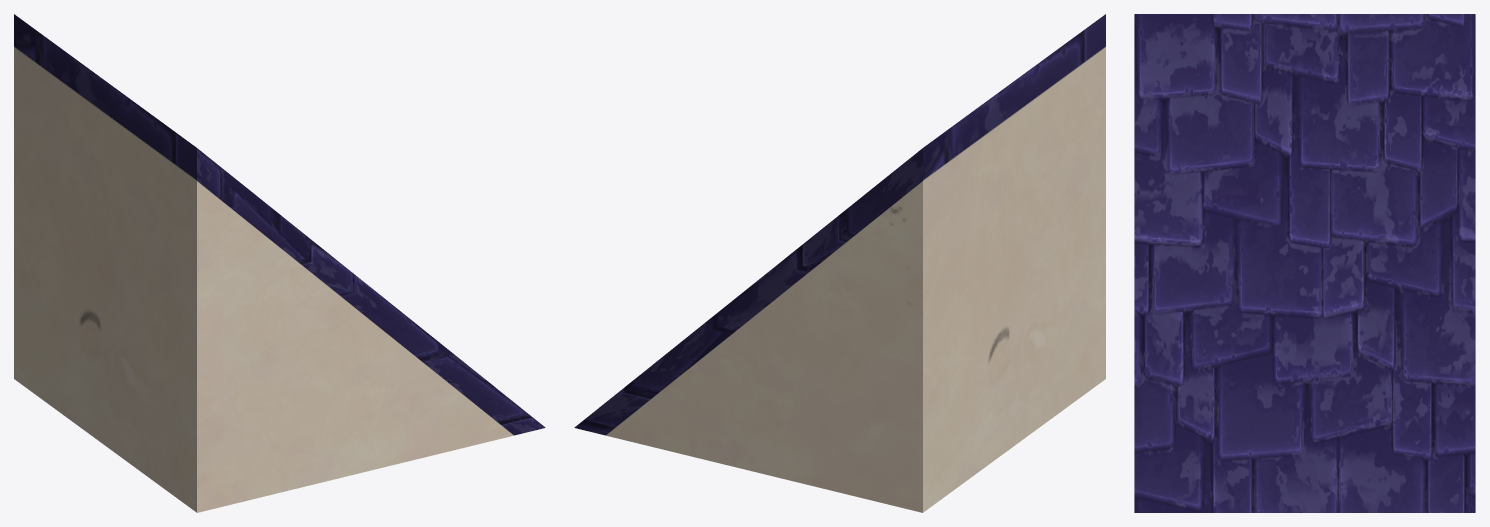
File: Bridge_S_Roof.fbx
3 views of the same model, side by side, from view 1: azimuth 30°, elevation 25°; view 2: azimuth 150°, elevation 25°; view 3: azimuth 270°, elevation 25° (orthographic). The views are drawn at different scales.
Parts seen in each view (by area): view 1: Bridge_S_Roof; view 2: Bridge_S_Roof; view 3: Bridge_S_Roof.
Part boxes in pixels (box(x1,y1,x2,y2)): Bridge_S_Roof: box(14, 14, 545, 512); Bridge_S_Roof: box(574, 14, 1105, 512); Bridge_S_Roof: box(1134, 14, 1475, 512).
Bounding box in the file's own units: 220 × 220 × 200.
2 materials, 2 textured.
